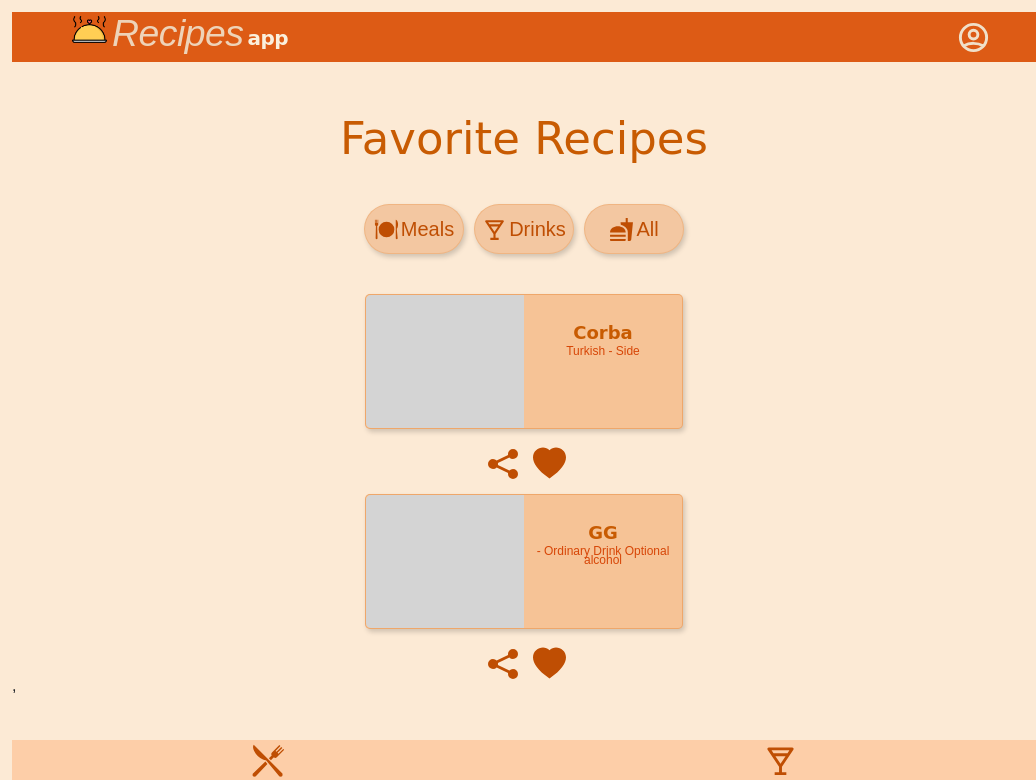
Test: Testa as bebidas › Testa o filtro meals
Click the button with test id "filter-by-meal-btn".
click(414, 229)  # box [364,204,464,254]
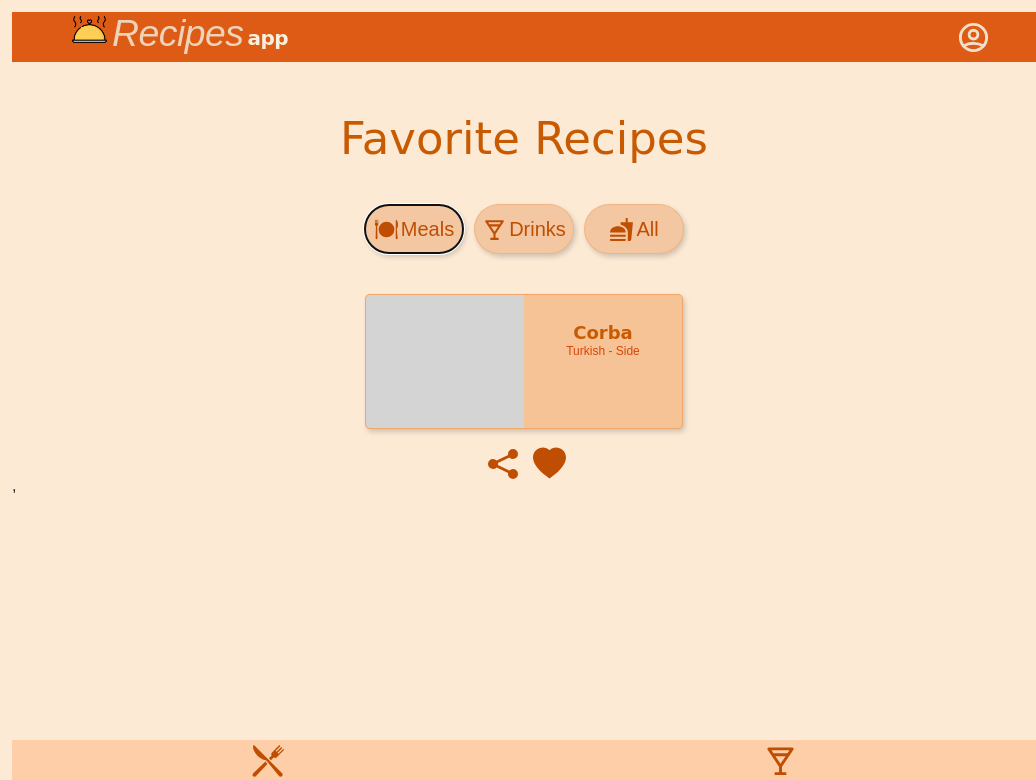
Expected: the link "GG" is gone
